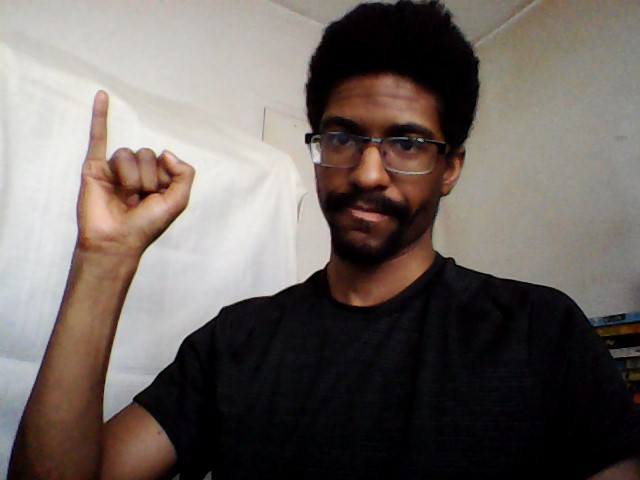i: (71, 84, 201, 258)
